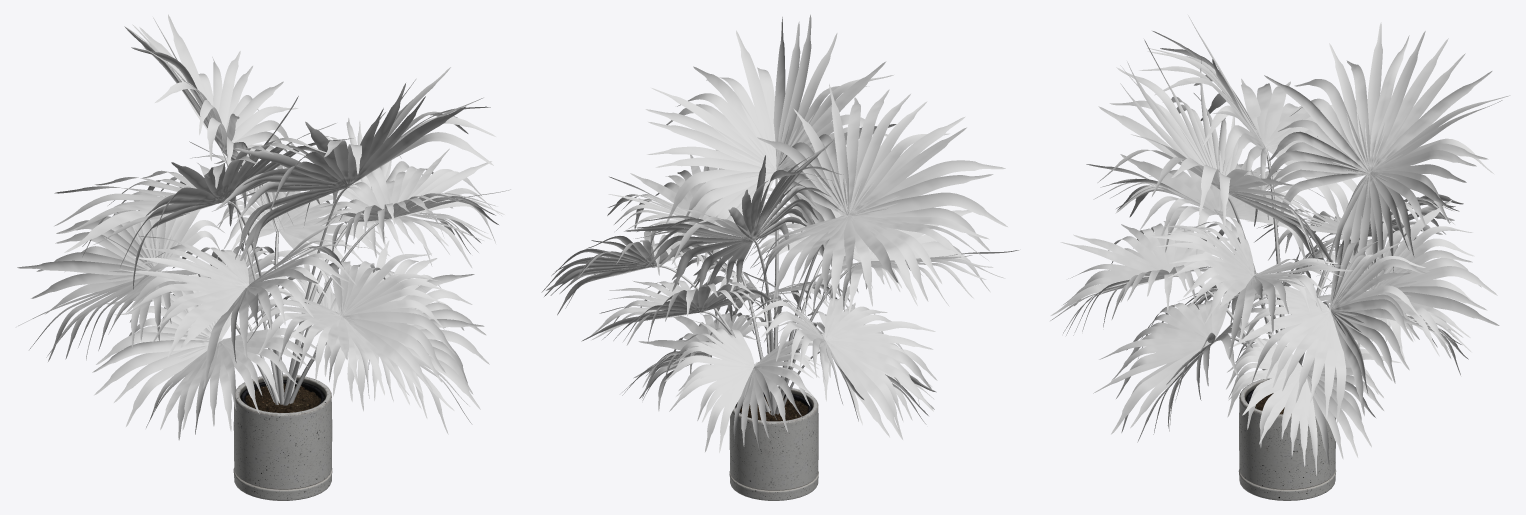
File: LIVISTONA_CHINENSIS.fbx
The picture shows the model from 3 angles, left to right: view 1: azimuth 30°, elevation 25°; view 2: azimuth 150°, elevation 25°; view 3: azimuth 270°, elevation 25°; orthographic projection. The views are drawn at different scales.
Parts seen in each view (by area): view 1: LIVISTONA_CHINENSIS, PLANTER_TERRA_BASE; view 2: LIVISTONA_CHINENSIS, PLANTER_TERRA_BASE; view 3: LIVISTONA_CHINENSIS, PLANTER_TERRA_BASE.
Part boxes in pixels (x1,y1,x2,y2): LIVISTONA_CHINENSIS: [17, 14, 510, 440]; PLANTER_TERRA_BASE: [233, 374, 332, 500]; LIVISTONA_CHINENSIS: [541, 14, 1018, 452]; PLANTER_TERRA_BASE: [729, 386, 818, 500]; LIVISTONA_CHINENSIS: [1050, 15, 1510, 475]; PLANTER_TERRA_BASE: [1238, 379, 1336, 500].
Size of the model in its own units: 160 by 153 by 145.
